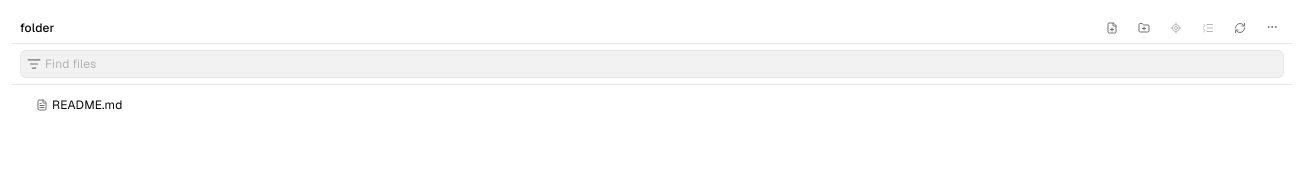
Scenario: create (#163) › keeps spaces in the entered name
This screenshot has width=1304, height=172.
Click the button named "New File" at (1112, 28), box [1100,16,1124,40]
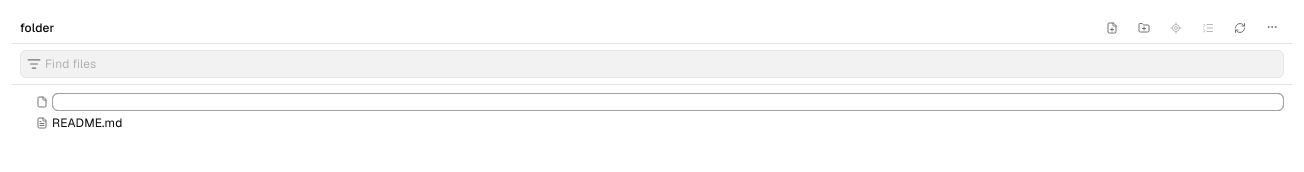
Type "my notes.txt" into the field named "New file name" at (668, 102), box [52,93,1284,111]
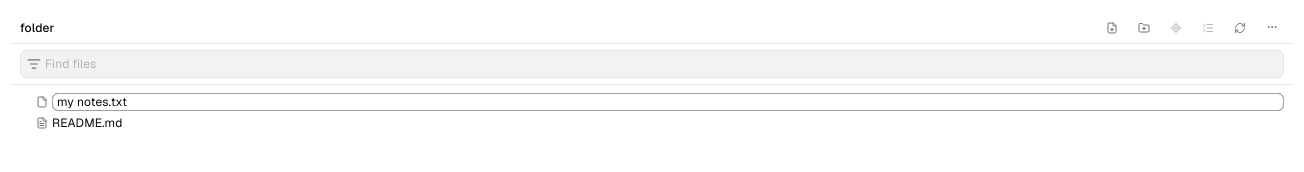
Press Enter in the field named "New file name", box [52,93,1284,111]
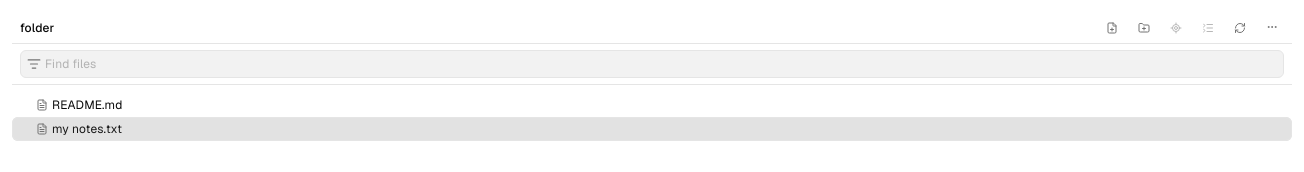
Result: the button "my notes.txt" is shown at [12,117,1292,141]
